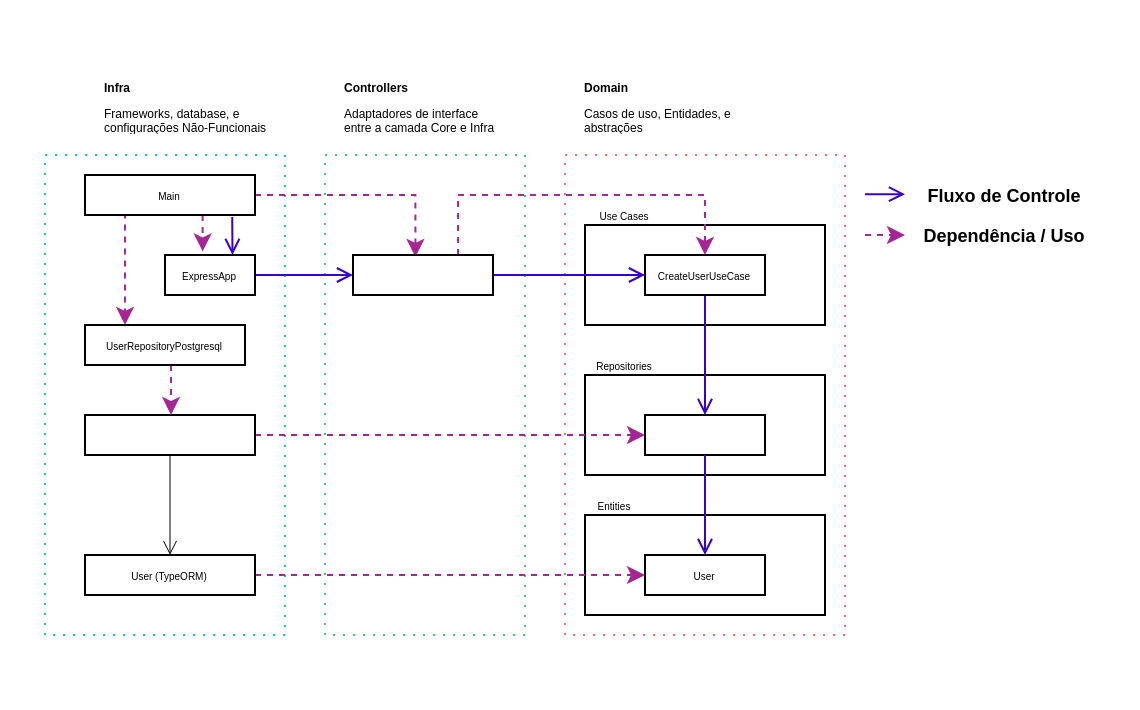
Image size: 1140x710. Some labels were removed from this diagram. The shapes that lost their labels are listed below. From the top down, each one's centre as x and y in pixels, then its label:
At point 422,274: "UserController".
At point 169,434: "UserRepositoryPostresql".
At point 704,434: "IUserRepository".
